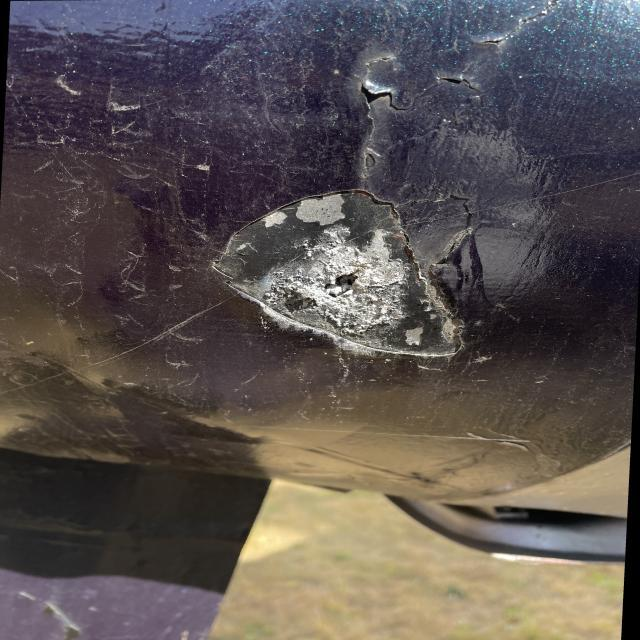crack: (346, 62, 489, 129), (462, 13, 576, 46)
dent: (209, 177, 482, 368)
